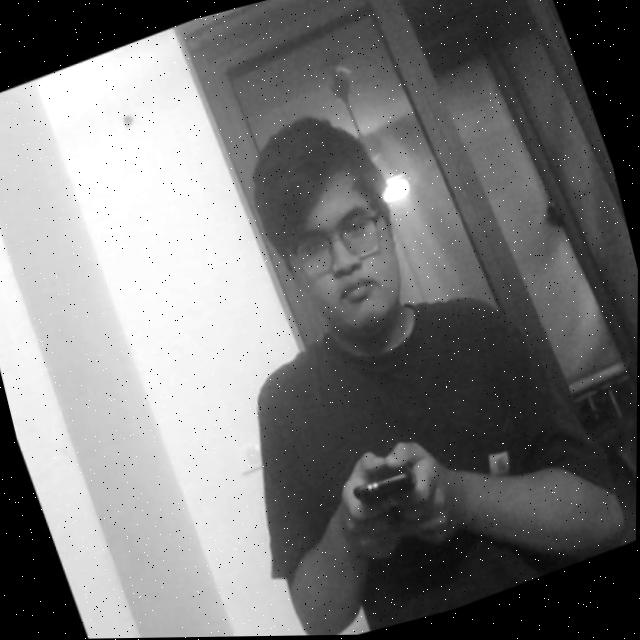phone: (344, 453, 440, 527)
